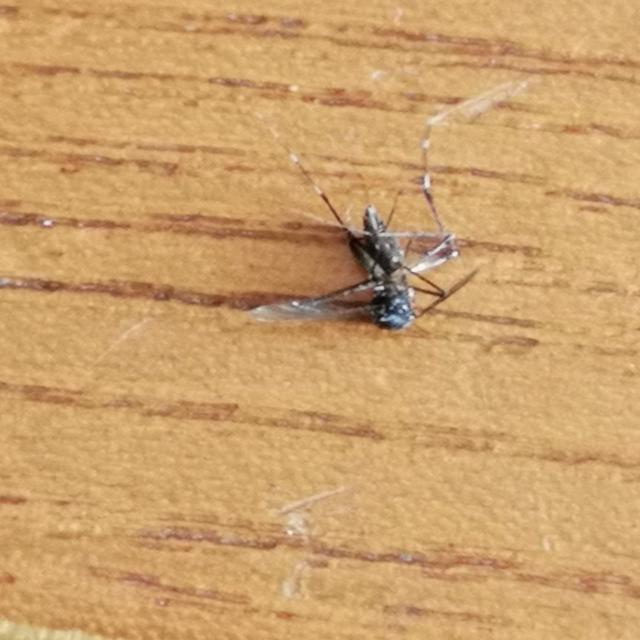albopictus: (271, 113, 523, 331)
